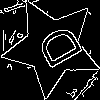D: (27, 22, 84, 76)
